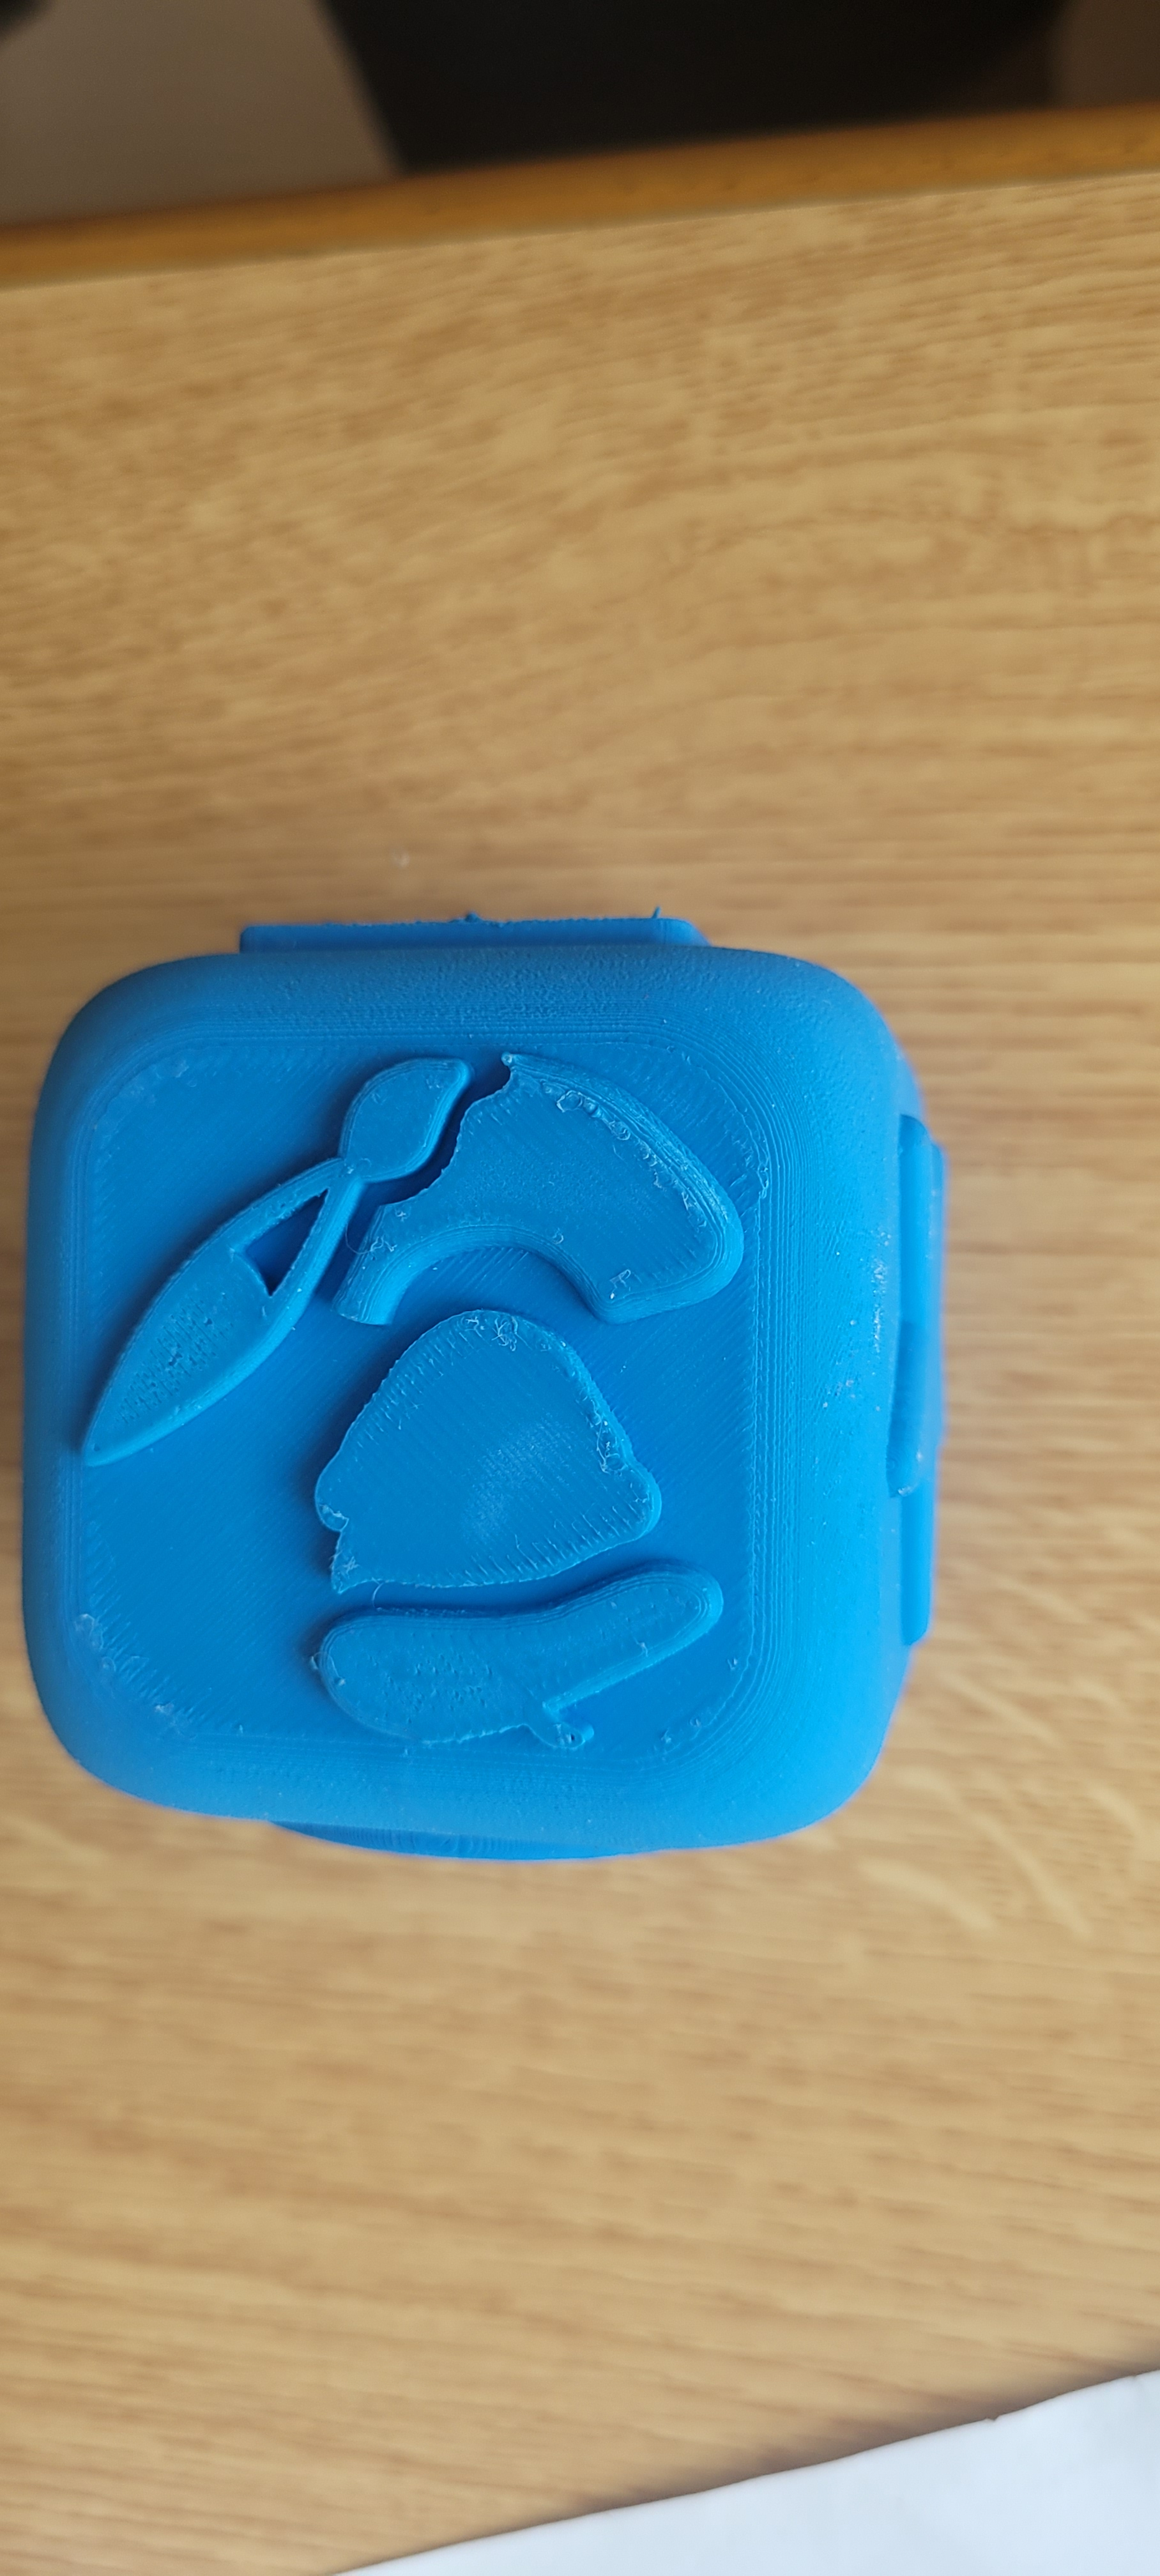Artist_Info: (15, 897, 900, 1888)
